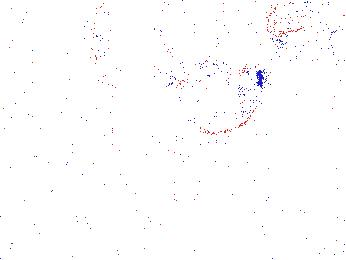moon jellyfish: (167, 69, 262, 134), (91, 1, 156, 90), (158, 1, 239, 71), (266, 1, 346, 44)
